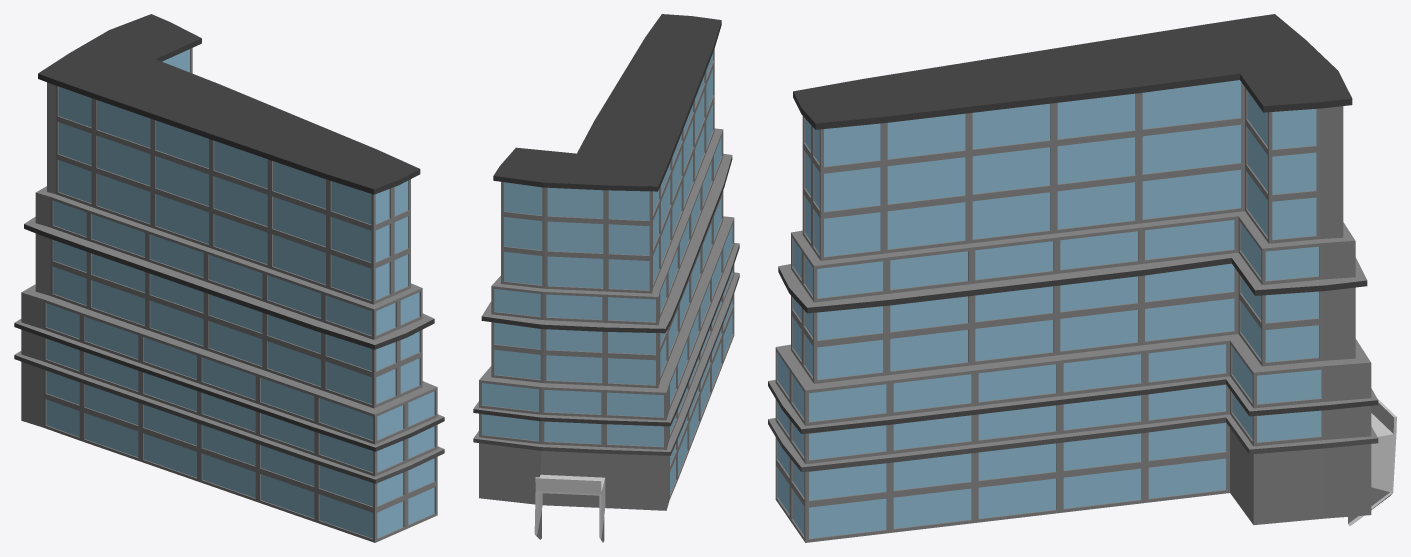
File: hotel i.fbx
3 renders of one model, left to right at view 1: azimuth 30°, elevation 25°; view 2: azimuth 150°, elevation 25°; view 3: azimuth 270°, elevation 25°, orthographic. The views are drawn at different scales.
Parts seen in each view (by area): view 1: hotel l; view 2: hotel l; view 3: hotel l.
Part boxes in pixels (left/top/right/bottom): hotel l: left=14, top=14, right=444, bottom=542; hotel l: left=473, top=14, right=739, bottom=542; hotel l: left=768, top=14, right=1396, bottom=542.
Size of the model in its own units: 4381 by 7118 by 8879.
